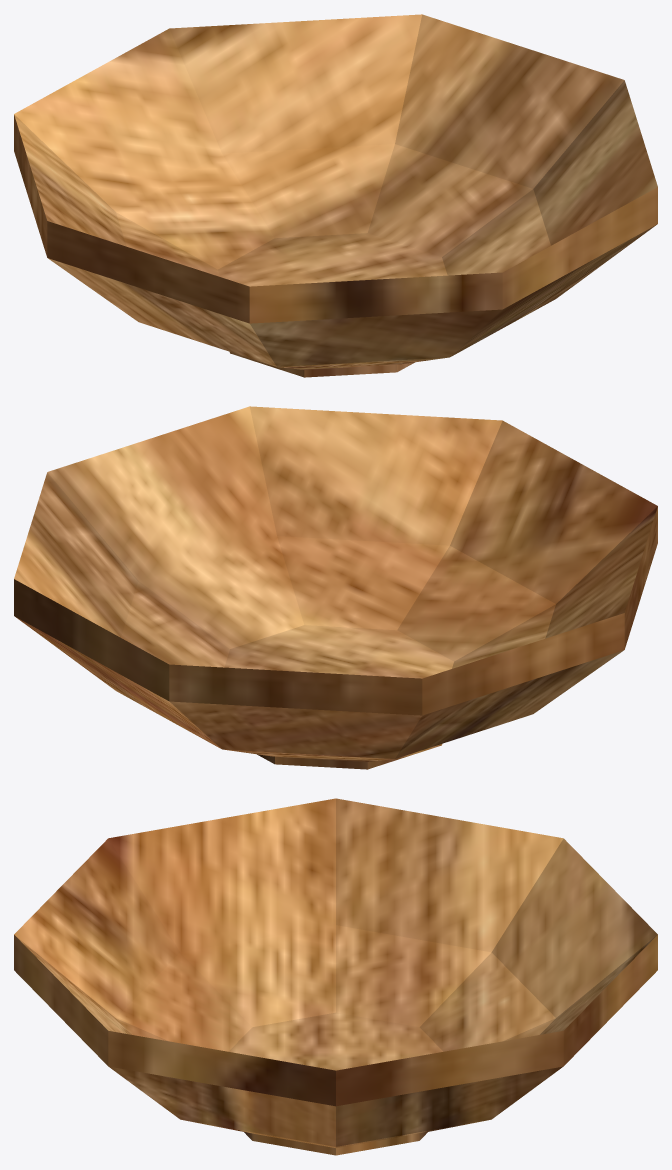
Rendered from Bowl.fbx.
3 views of the same model, one above another, from view 1: azimuth 30°, elevation 25°; view 2: azimuth 150°, elevation 25°; view 3: azimuth 270°, elevation 25° (orthographic). The views are drawn at different scales.
Parts seen in each view (by area): view 1: Cylinder; view 2: Cylinder; view 3: Cylinder.
Part boxes in pixels (box(x1,y1,x2,y2)): Cylinder: box(14, 14, 657, 377); Cylinder: box(14, 406, 657, 769); Cylinder: box(14, 798, 657, 1155).
Bounding box in the file's own units: 200 × 58.63 × 200.
1 material, 1 textured.
